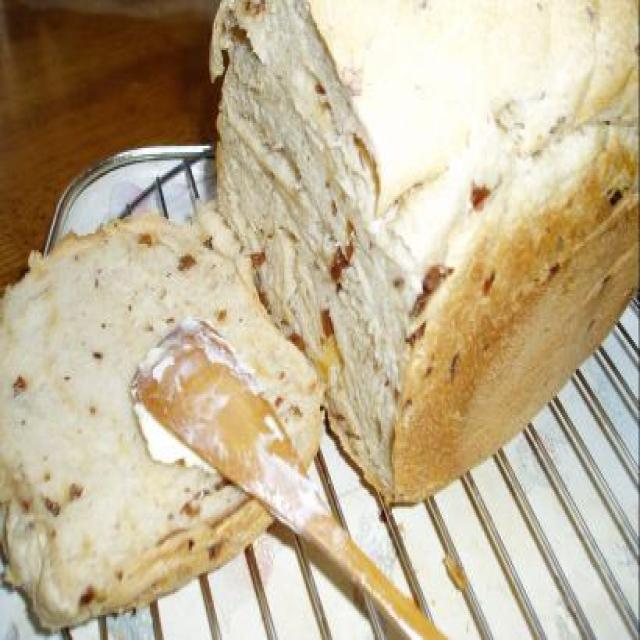面包点心: (0, 0, 640, 632)
